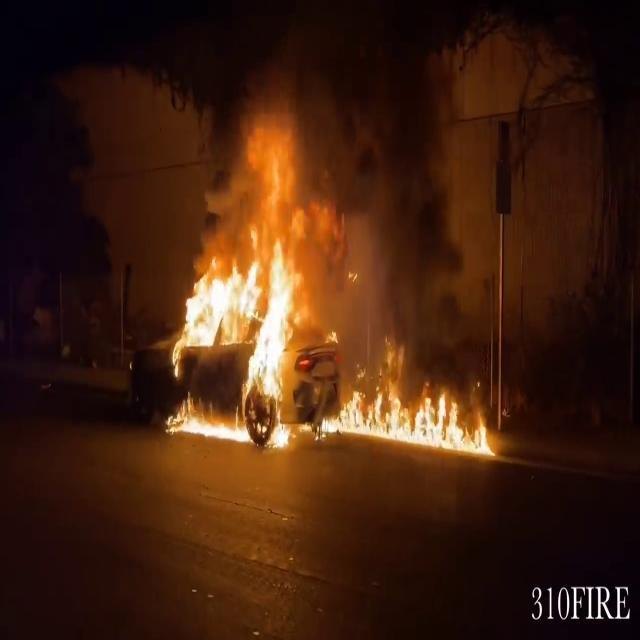Fire: (155, 163, 319, 448), (334, 357, 496, 459)
Smoke: (284, 21, 461, 348)
